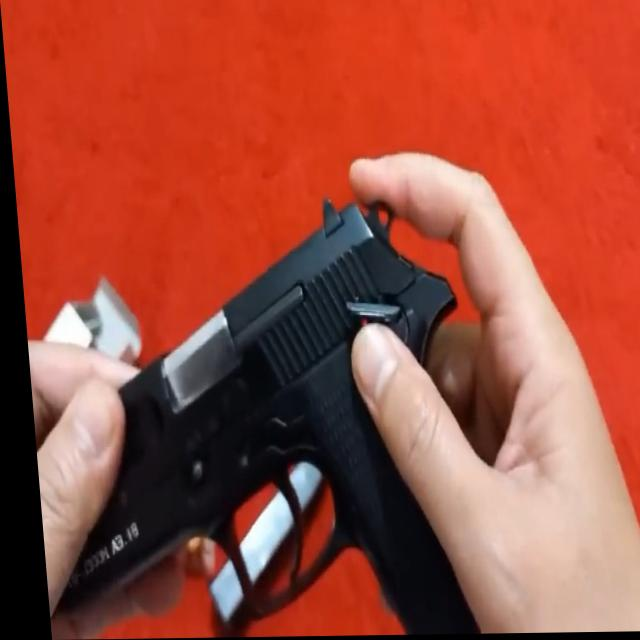handgun: (32, 161, 458, 639)
